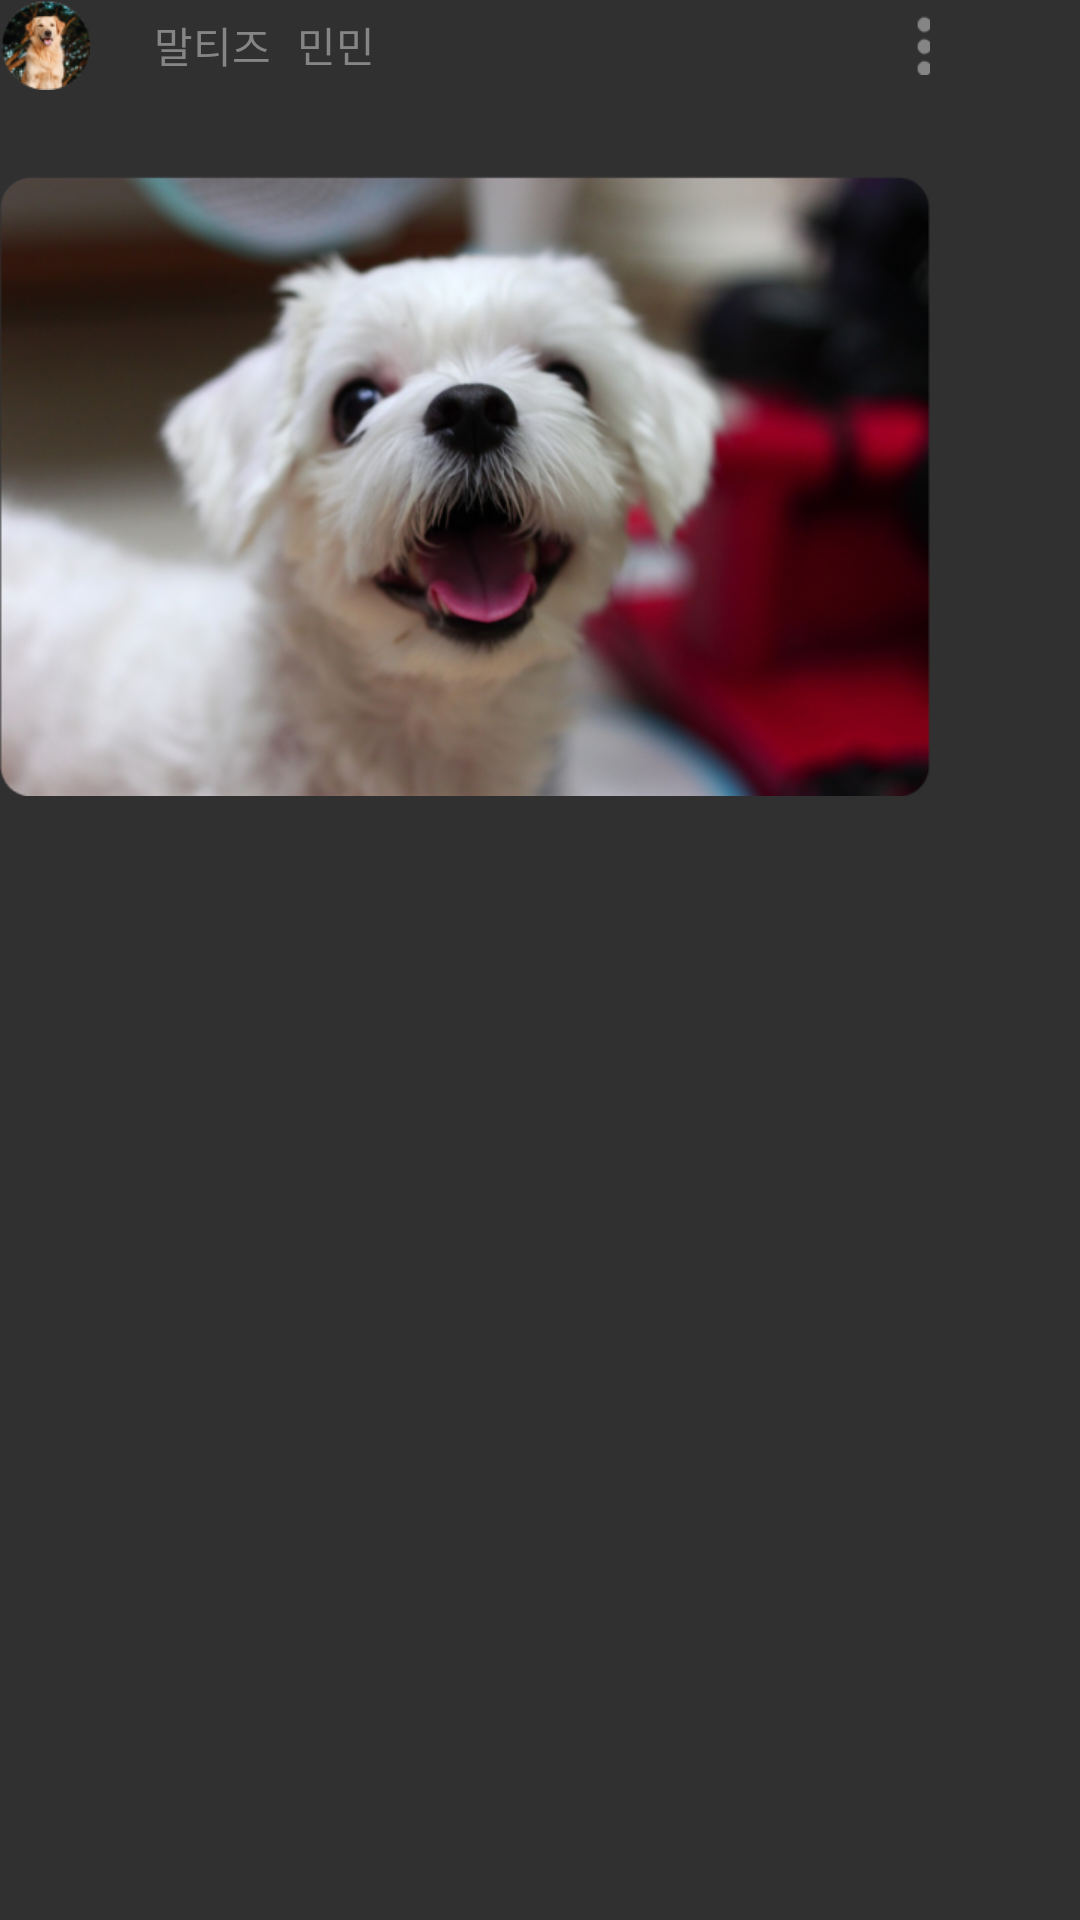

Locate icon controls on the screen. Image size 1080px x 1920px, boxes as detection(x1, y1, x2, y2).
community animal profile: detection(3, 1, 90, 90)
